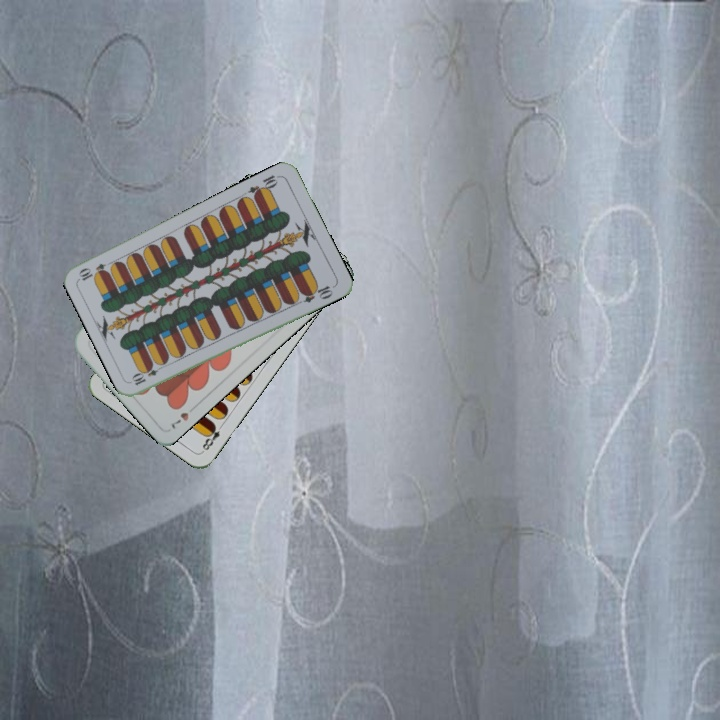E10: (244, 171, 282, 201), (128, 360, 167, 388)
E8: (198, 419, 227, 454)
H7: (166, 401, 199, 432)
